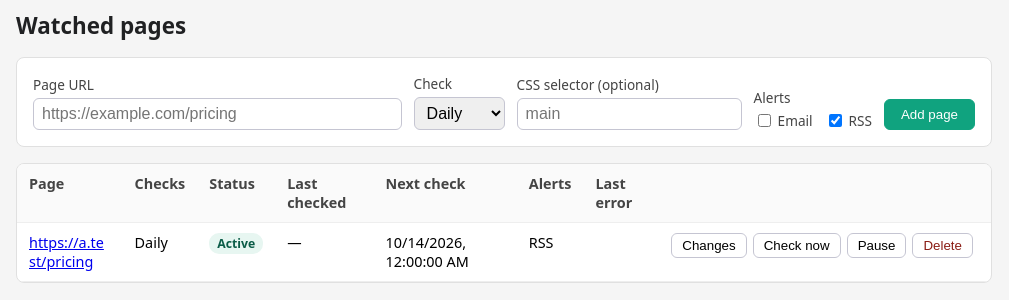
Test: delete asks first and does nothing when cancelled
The width and height of the screenshot is (1009, 300).
Click the button "Delete" at (943, 246), box [912,233,973,258]
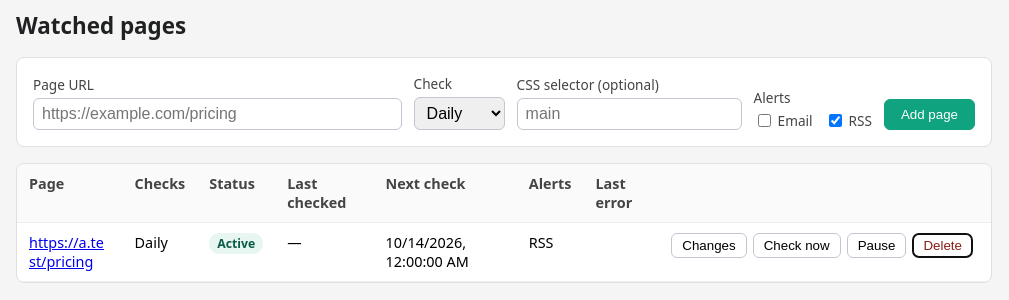
Click the button "Delete" at (943, 246), box [912,233,973,258]
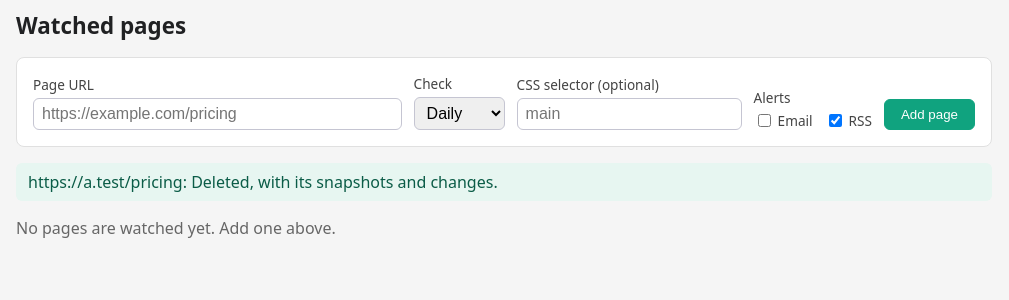
Result: the text "No pages are watched yet. Add one above." is shown at [16,217,336,239]
